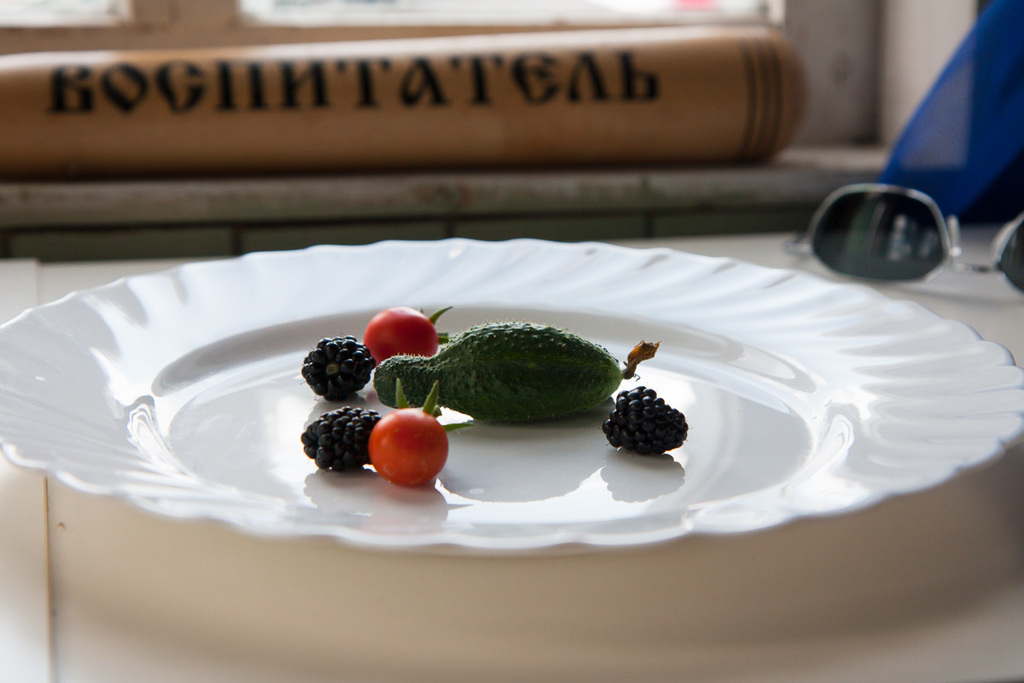plate: (0, 233, 1023, 557)
